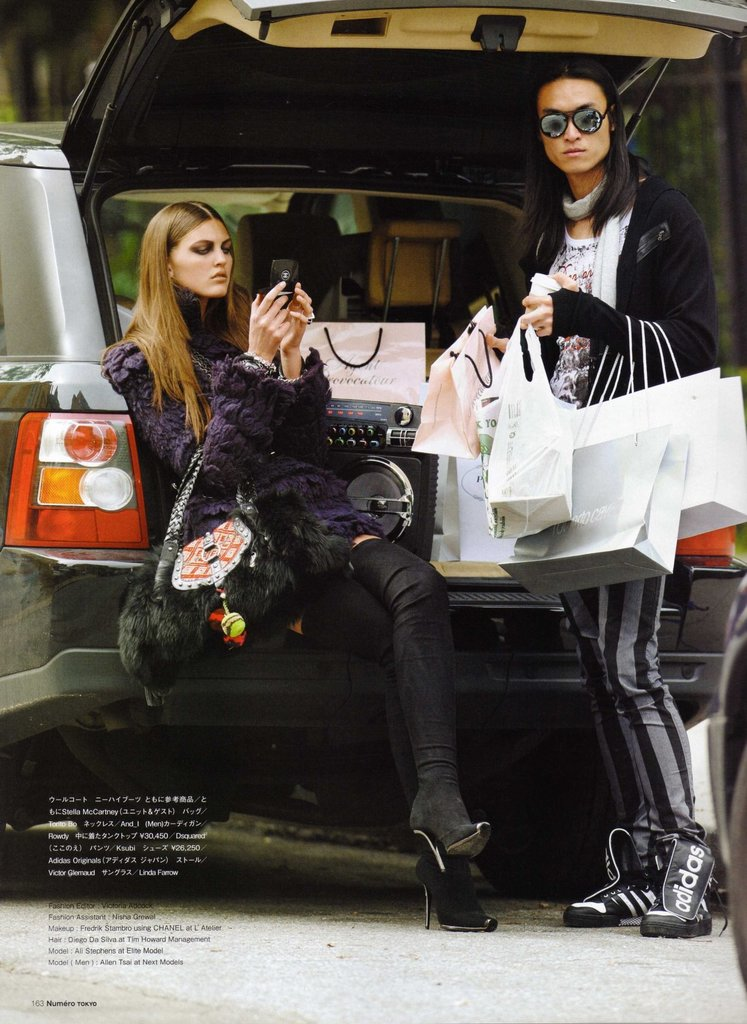Car: (0, 0, 746, 900), (706, 572, 746, 994)
